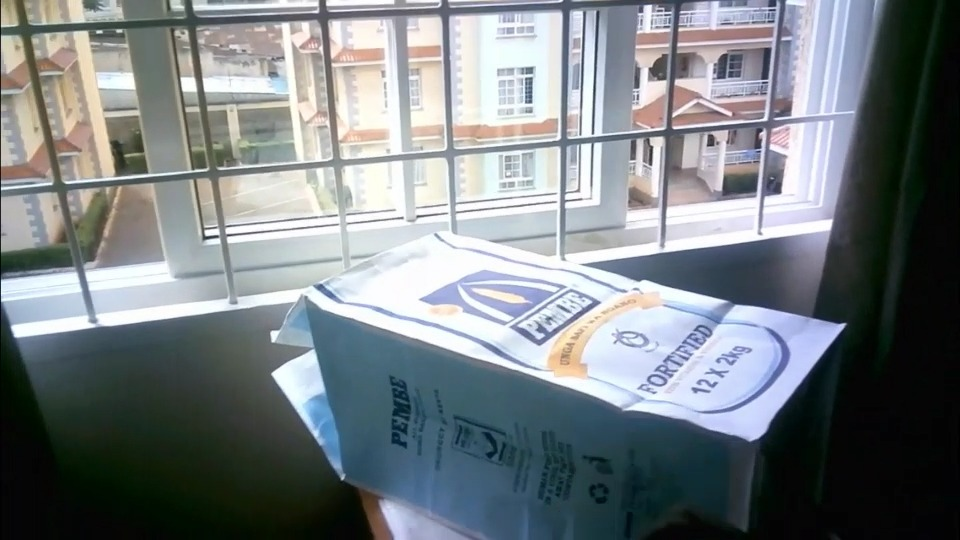wheat_flour_blue_label: (301, 229, 846, 537)
